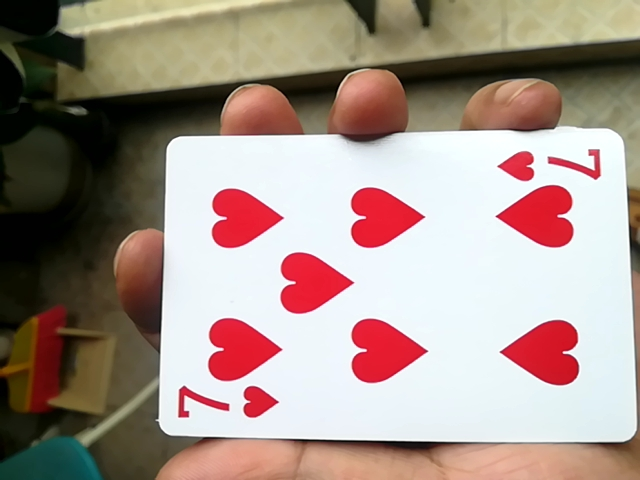hx 7: (138, 129, 626, 450)
